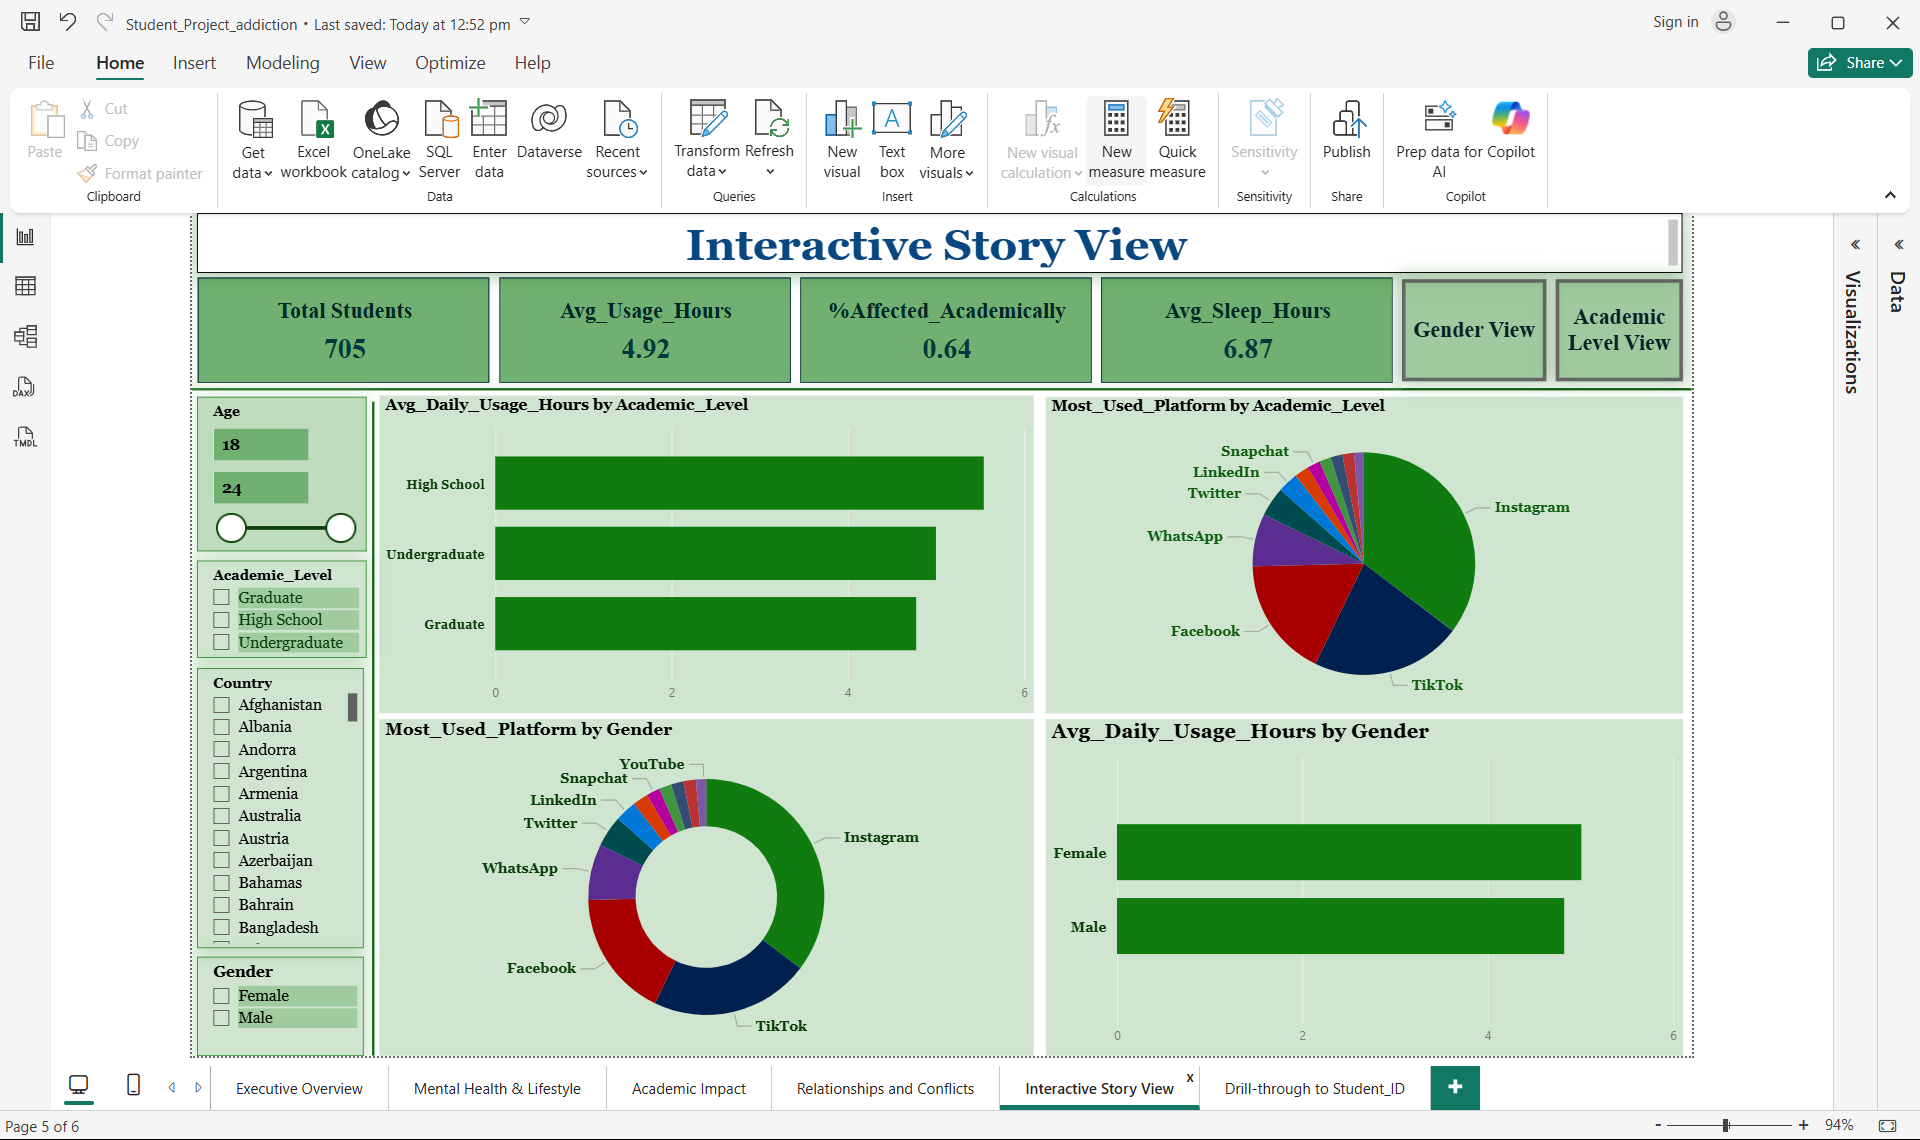

The dashboard page shown, as its layout file describes it:
{"tool":"powerbi","page":{"name":"Interactive Story View","canvas":[1280,720],"ordinal":4},"visuals":[{"type":"clusteredBarChart","title":"Avg_Daily_Usage_Hours by Gender","fields":{"Category":["Student Details.Gender"],"Y":["Avg(Platform Details.Avg_Daily_Usage_Hours)"]},"box":[728.9,431.7,543.6,287.1],"z":0},{"type":"donutChart","title":"Most_Used_Platform by Gender","fields":{"Category":["Platform Details.Most_Used_Platform"],"Y":["CountNonNull(Student Details.Student_ID)"]},"box":[160.5,431.7,558.3,287.1],"z":1000},{"type":"barChart","title":"Avg_Daily_Usage_Hours by Academic_Level","fields":{"Category":["Student Details.Academic_Level"],"Y":["Avg(Platform Details.Avg_Daily_Usage_Hours)"]},"box":[160.5,156,558.3,271.2],"z":2000},{"type":"pieChart","title":"Most_Used_Platform by Academic_Level","fields":{"Category":["Platform Details.Most_Used_Platform"],"Y":["CountNonNull(Student Details.Student_ID)"]},"box":[728.9,157.1,543.6,270.1],"z":3000},{"type":"actionButton","box":[1033,56.5,123.2,87],"z":4000},{"type":"actionButton","box":[1164.1,56.5,108.5,87],"z":5000},{"type":"shape","box":[148.3,161.1,12.8,558],"z":6000},{"type":"shape","box":[0,144,1280.4,12.8],"z":7000},{"type":"slicer","fields":{"Values":["Student Details.Gender"]},"box":[4.5,635.3,142.3,84.7],"z":8000},{"type":"slicer","fields":{"Values":["Student Details.Country"]},"box":[4.5,388.4,142.3,239.4],"z":9000},{"type":"slicer","fields":{"Values":["Student Details.Academic_Level"]},"box":[4.5,297,144.5,83.6],"z":10000},{"type":"slicer","fields":{"Values":["Student Details.Age"]},"box":[4.5,157,144.5,132.1],"z":11000},{"type":"cardVisual","fields":{"Data":["Student Details.Total Students","Student Details.Avg_Usage_Hours","Student Details.%Affected_Academically","Student Details.Avg_Sleep_Hours"]},"box":[0,49.7,1033,100.6],"z":12000},{"type":"textbox","box":[4.5,0,1268,50.9],"z":13000}]}

Visuals, with their boxes on the page's 1280x720 design canvas (x1, y1, x2, y2). These are canvas units, not pixel positions in the 1920x1140 screenshot, which may show the page scaled, cropped or inside an application window:
"Avg_Daily_Usage_Hours by Gender" clusteredBarChart: <region>729, 432, 1272, 719</region>
"Most_Used_Platform by Gender" donutChart: <region>160, 432, 719, 719</region>
"Avg_Daily_Usage_Hours by Academic_Level" barChart: <region>160, 156, 719, 427</region>
"Most_Used_Platform by Academic_Level" pieChart: <region>729, 157, 1272, 427</region>
actionButton: <region>1033, 56, 1156, 144</region>
actionButton: <region>1164, 56, 1273, 144</region>
shape: <region>148, 161, 161, 719</region>
shape: <region>0, 144, 1280, 157</region>
slicer - Student Details.Gender: <region>4, 635, 147, 720</region>
slicer - Student Details.Country: <region>4, 388, 147, 628</region>
slicer - Student Details.Academic_Level: <region>4, 297, 149, 381</region>
slicer - Student Details.Age: <region>4, 157, 149, 289</region>
cardVisual - Student Details.Total Students x Student Details.Avg_Usage_Hours: <region>0, 50, 1033, 150</region>
textbox: <region>4, 0, 1272, 51</region>
